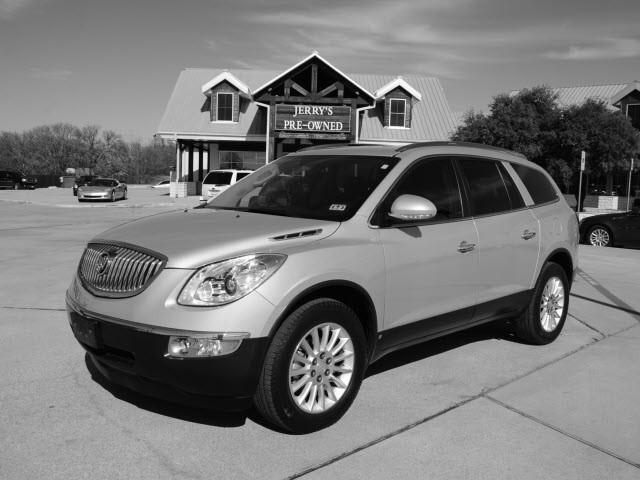car: (61, 139, 584, 439)
